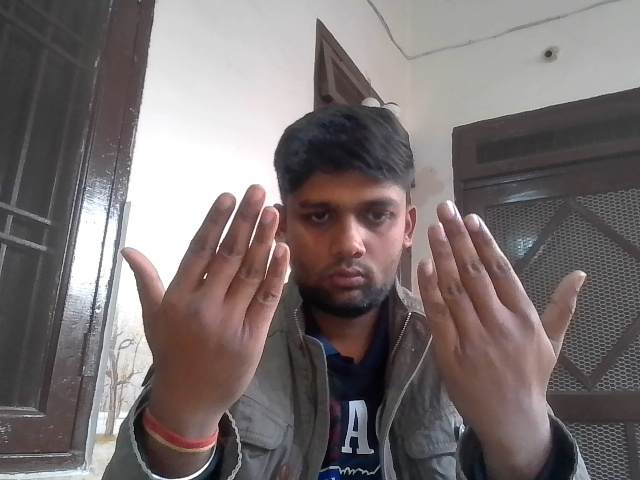ThankYou: (118, 173, 589, 447)
